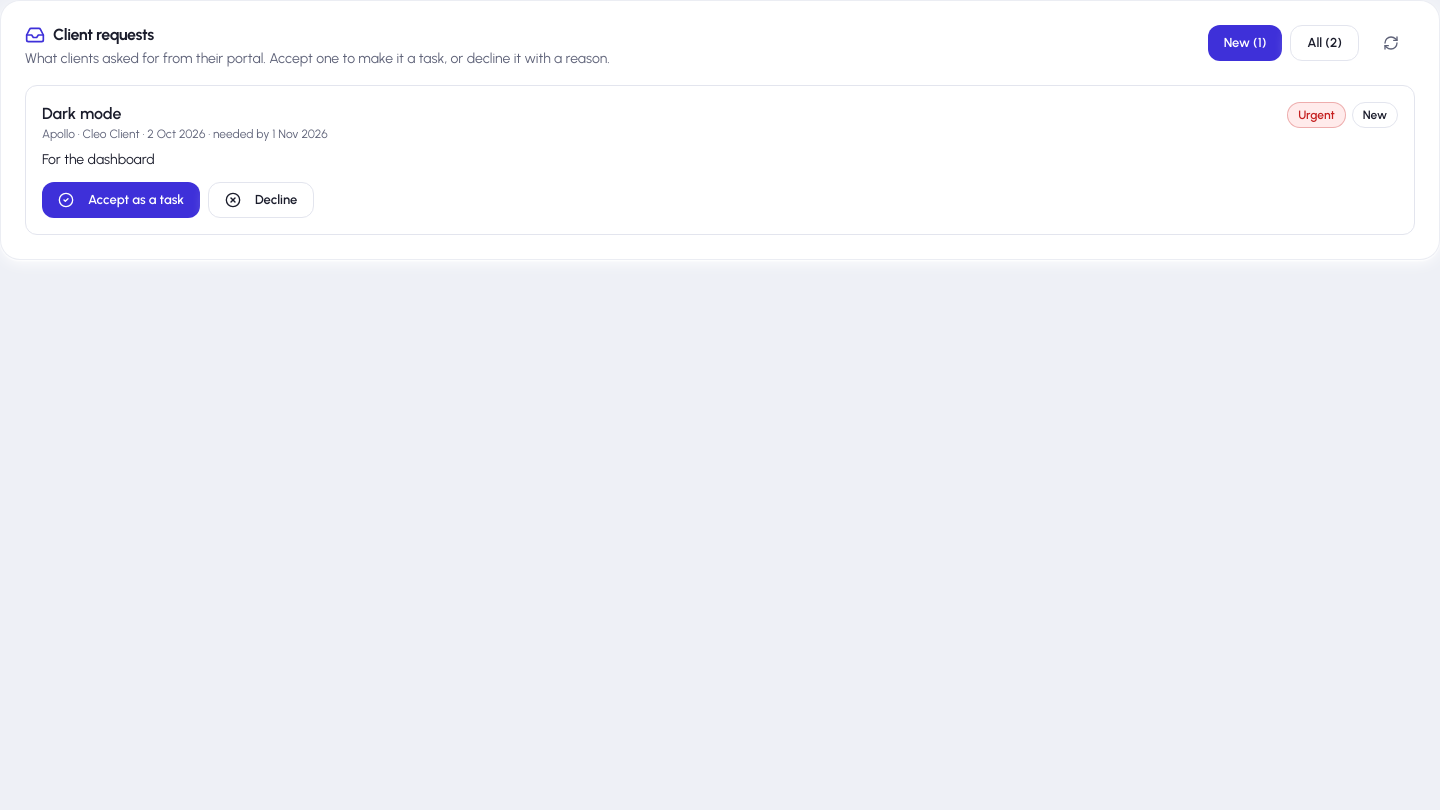
Test case: ClientRequestsInbox › accepting creates the task in the same project from the request, then marks it accepted
Click the button "Accept as a task".
click(121, 200)  # box [42,182,200,218]
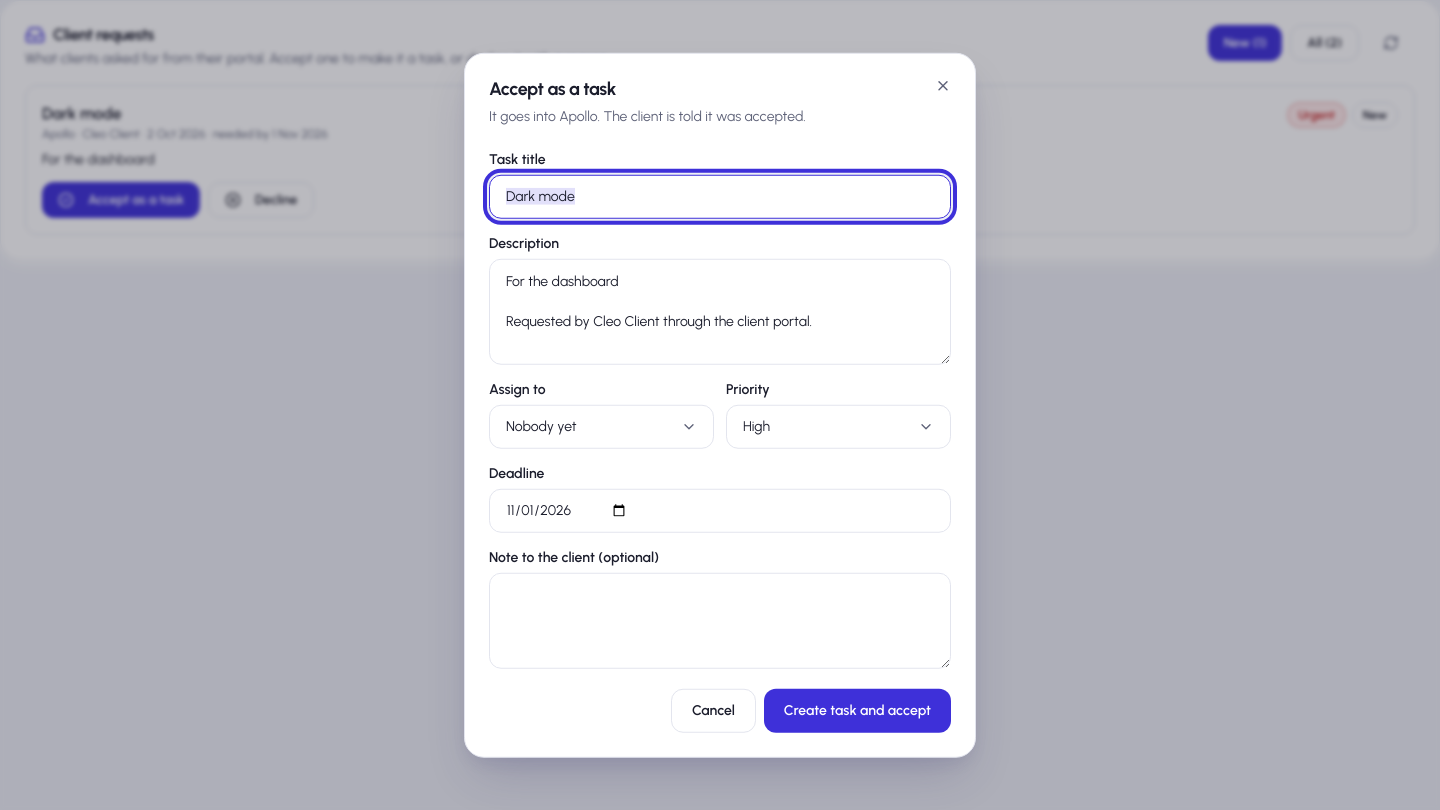
Check: the field labelled "Task title" holds "Dark mode", box [489,174,951,218]
Check: the date field labelled "Deadline" holds "2026-11-01", box [489,488,951,532]
Click the button "Create task and accept".
click(857, 710)  # box [764,688,951,732]
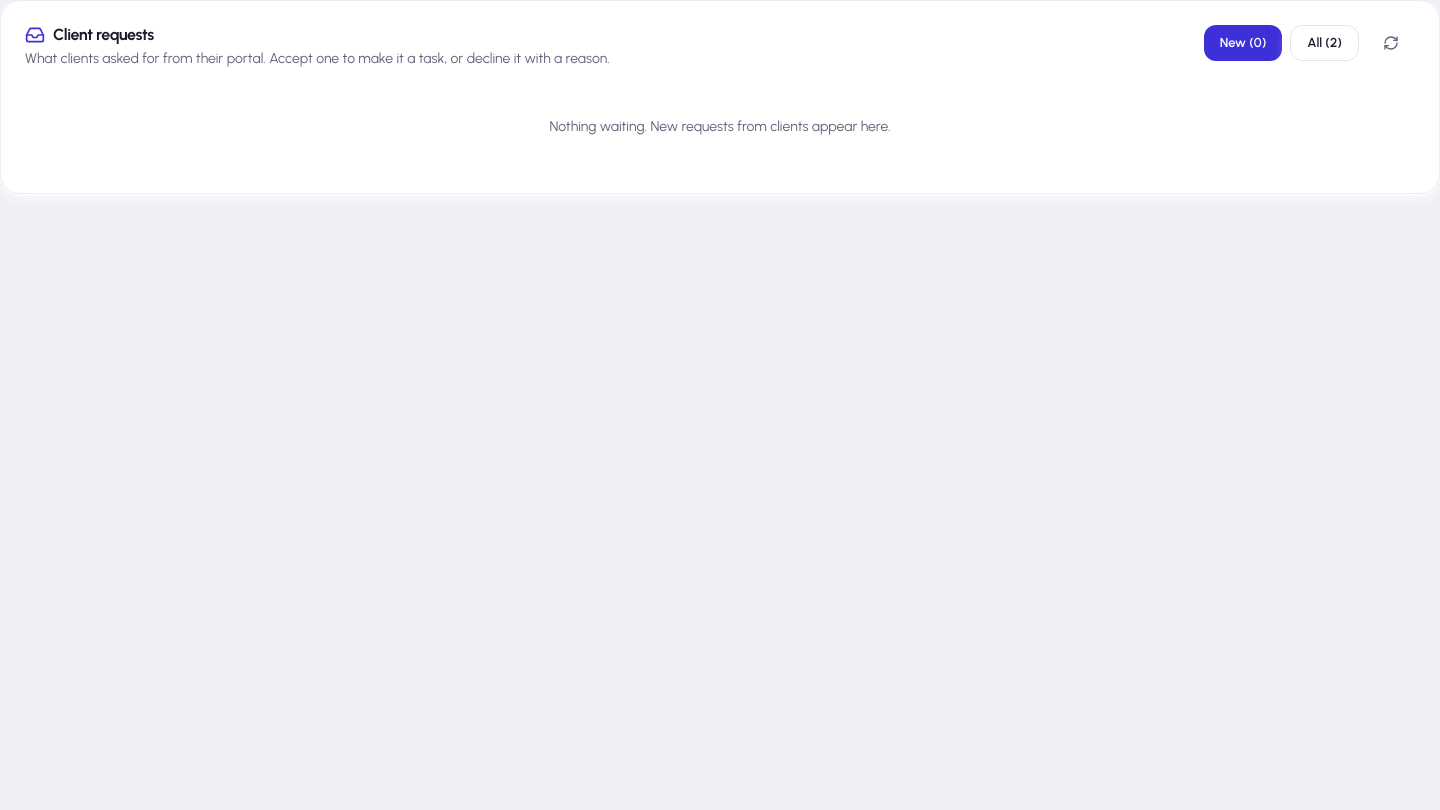
Check: the heading "Dark mode" is gone
